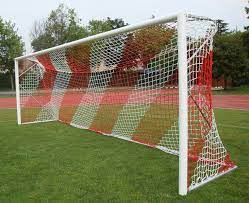goal: (14, 8, 189, 198)
